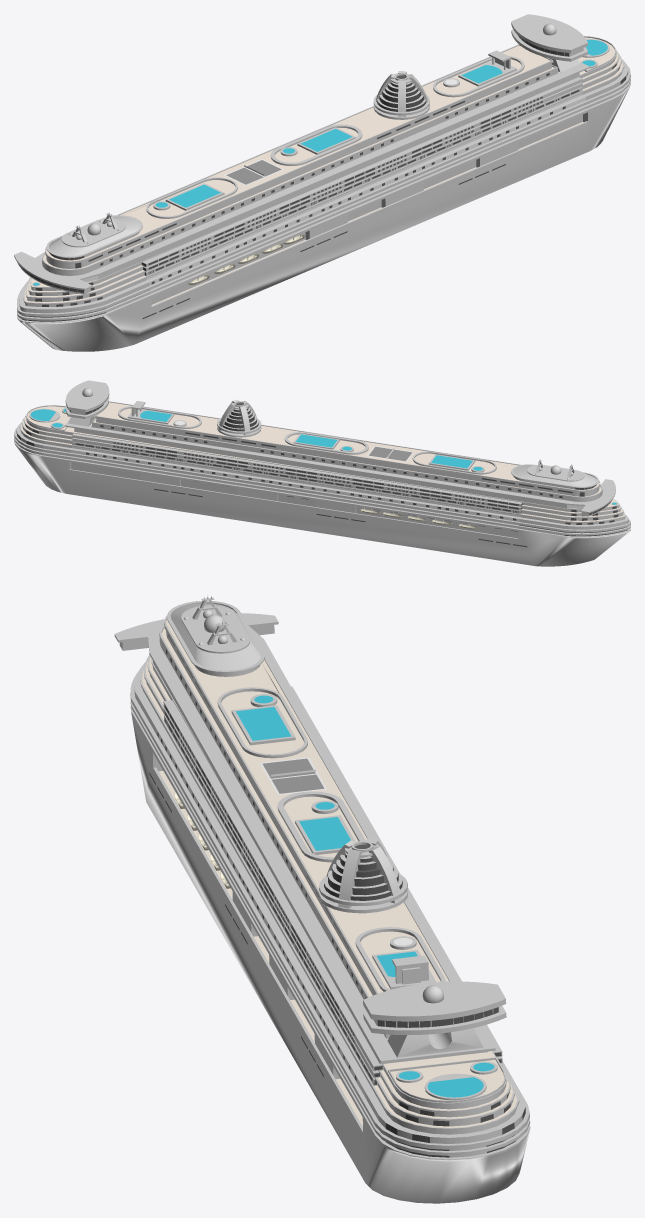
The model's file is Ship.glb.
3 renders of one model, top to bottom at view 1: azimuth 30°, elevation 25°; view 2: azimuth 150°, elevation 25°; view 3: azimuth 270°, elevation 25°, orthographic. The views are drawn at different scales.
Visible parts, largest first — view 1: cruise+ship; view 2: cruise+ship; view 3: cruise+ship.
Boxes of the visible parts, x1,y1,x2,y2 form: cruise+ship: [14, 14, 630, 351]; cruise+ship: [14, 380, 630, 566]; cruise+ship: [114, 595, 530, 1203].
Size of the model in its own units: 10.74 by 2.05 by 3.55.
